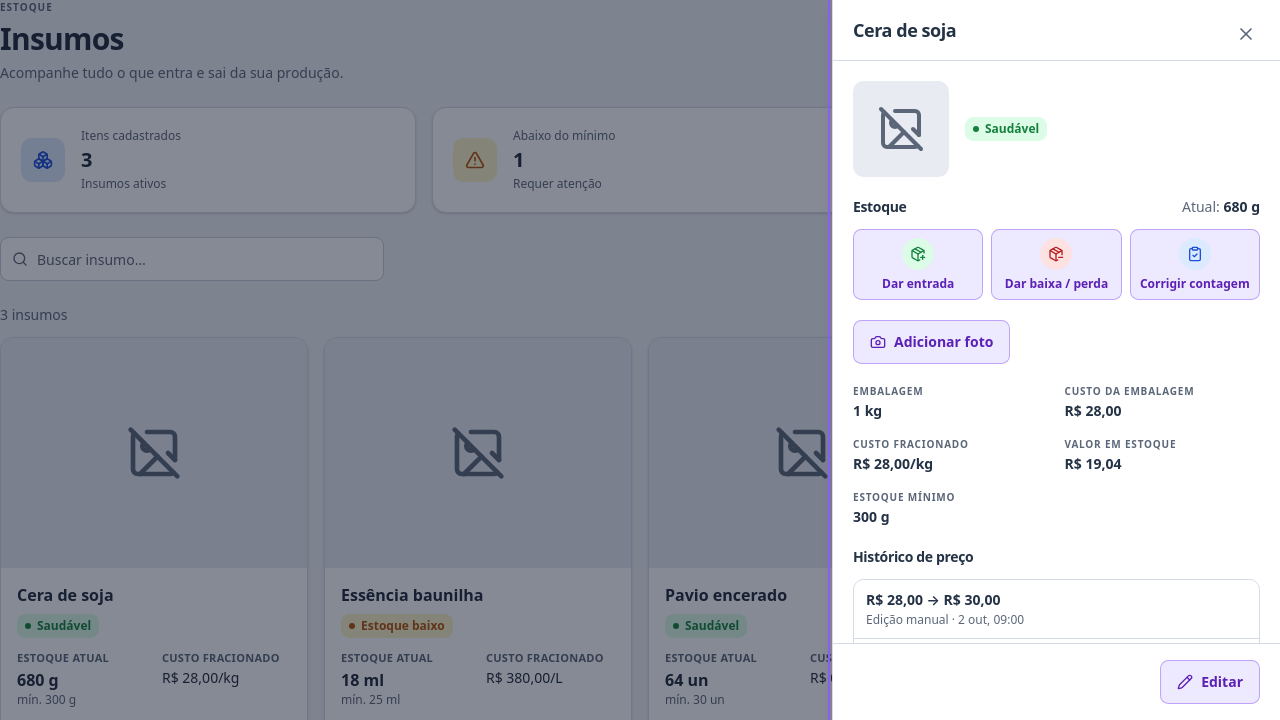
the three acts of the adjustment panel › shows them as three choices of one group, each named and with its own icon and tone
Click the button "Dar entrada" at (918, 264), box top-left (853, 229), bottom-right (983, 300)
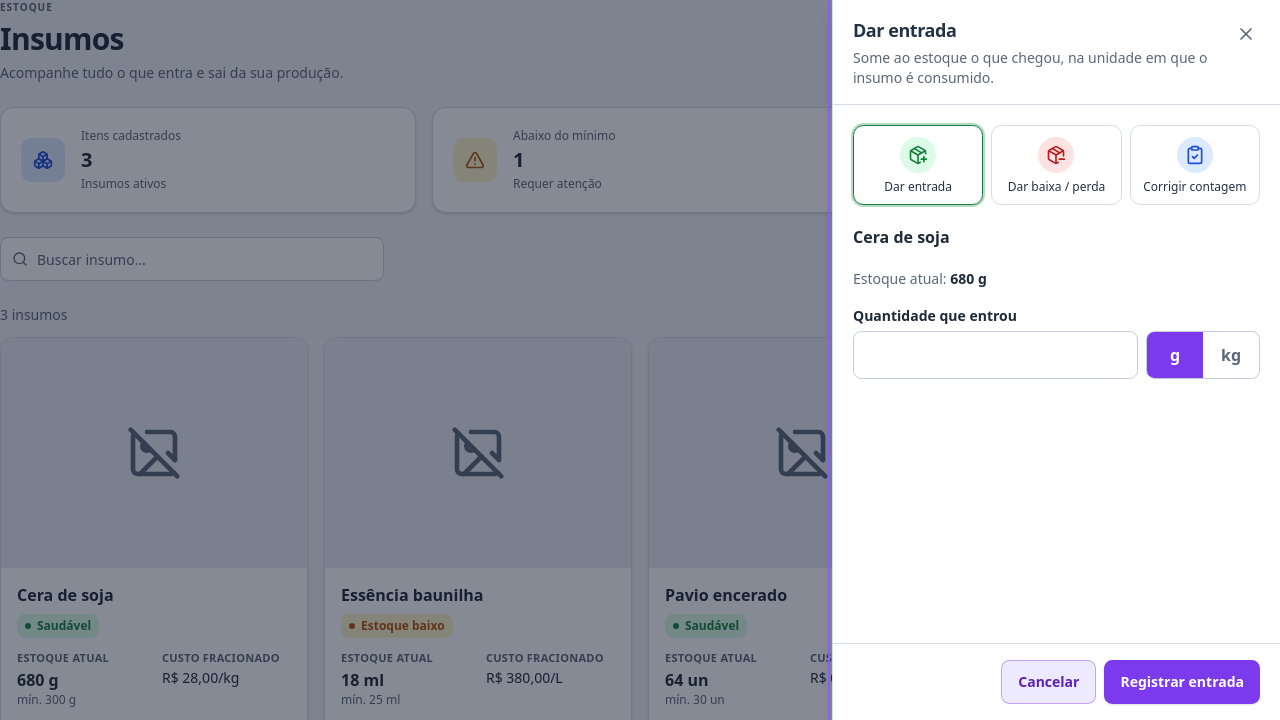
Expected: the radio button labelled "Dar entrada" is checked, top-left (853, 125), bottom-right (983, 205)
Expected: the radio buttons read "Dar entrada", "Dar baixa / perda", "Corrigir contagem", in this order, top-left (853, 125), bottom-right (983, 205); top-left (991, 125), bottom-right (1122, 205); top-left (1130, 125), bottom-right (1260, 205)
